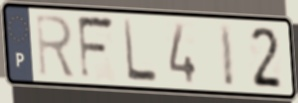2: (247, 26, 284, 92)
4: (167, 20, 199, 86)
F: (75, 14, 118, 83)
I: (217, 21, 237, 89)
L: (121, 17, 160, 85)
R: (33, 12, 78, 80)
